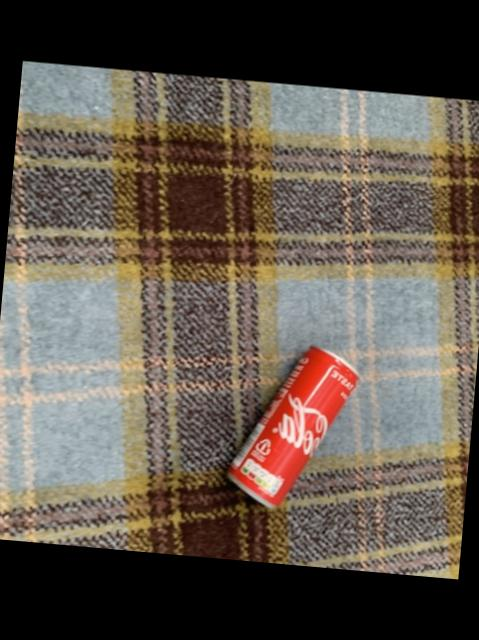metal: (224, 346, 354, 506)
